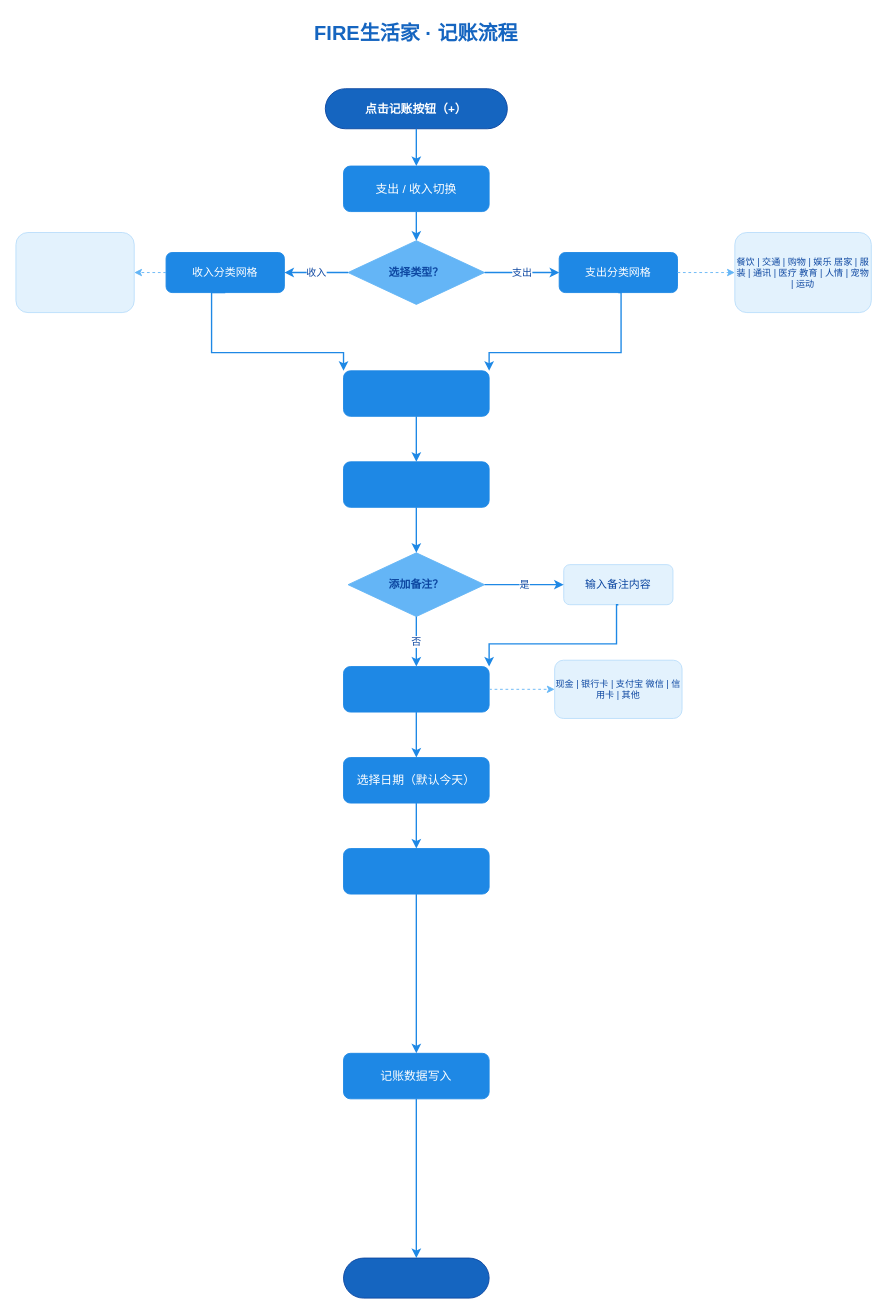
The diagram is 887 pixels wide and 1314 high, and some of its shapes have lost their labels. Each missing label, with the centre of its shape:
工资 | 奖金 | 兼职 投资收益 | 红包 退款 | 其他收入: pixel 74 272
点击保存 / 确认: pixel 416 871
输入金额（数字键盘）: pixel 416 484
返回首页明细: pixel 416 1277
选择具体分类: pixel 416 393
选择账户: pixel 416 689
